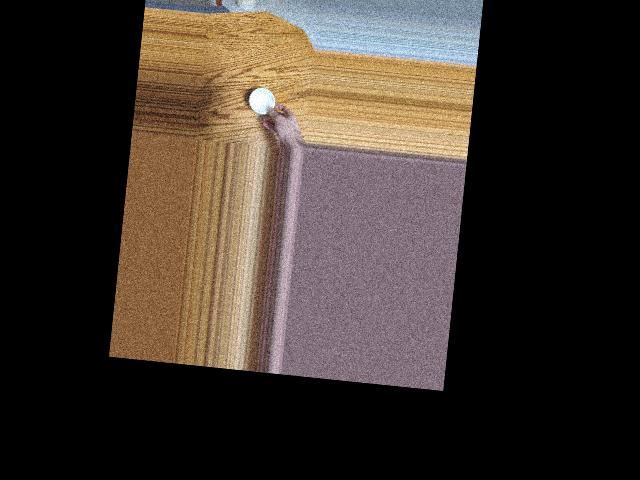cotage: (246, 87, 279, 118)
